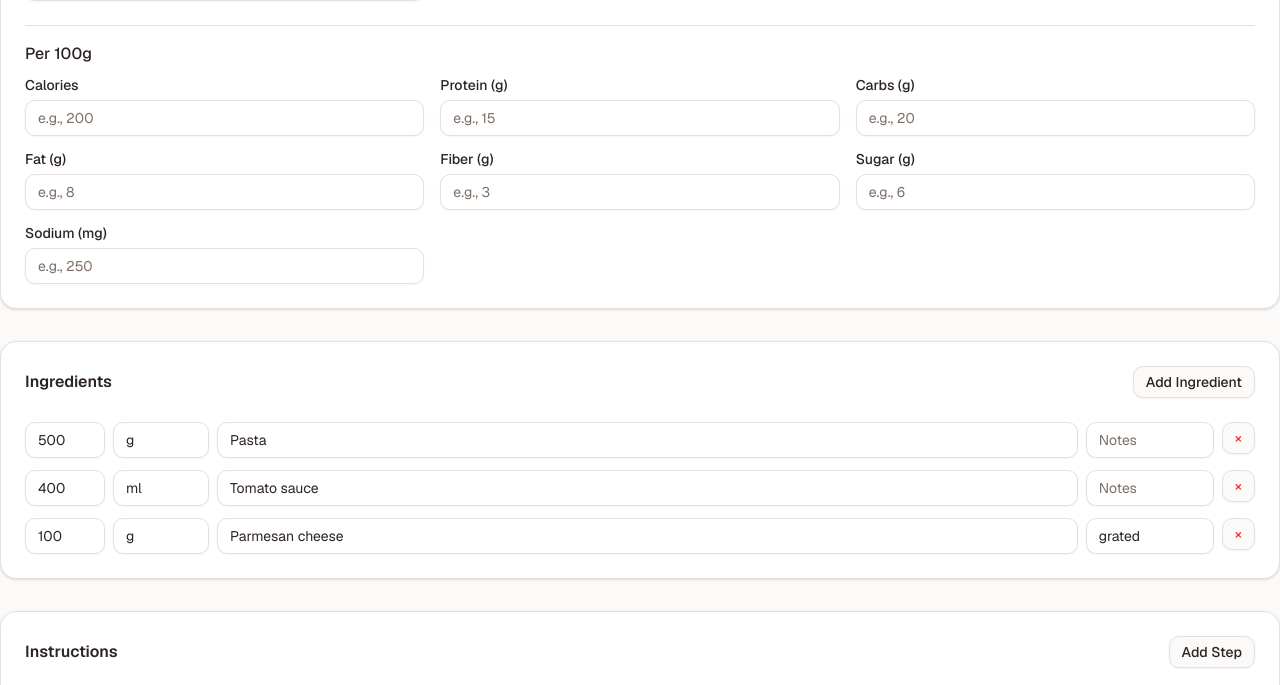
Test: RecipeForm › adds new ingredient row when add button clicked
(page scrolled)
Click the button "Add Ingredient".
click(1194, 382)  # box [1133, 366, 1255, 398]
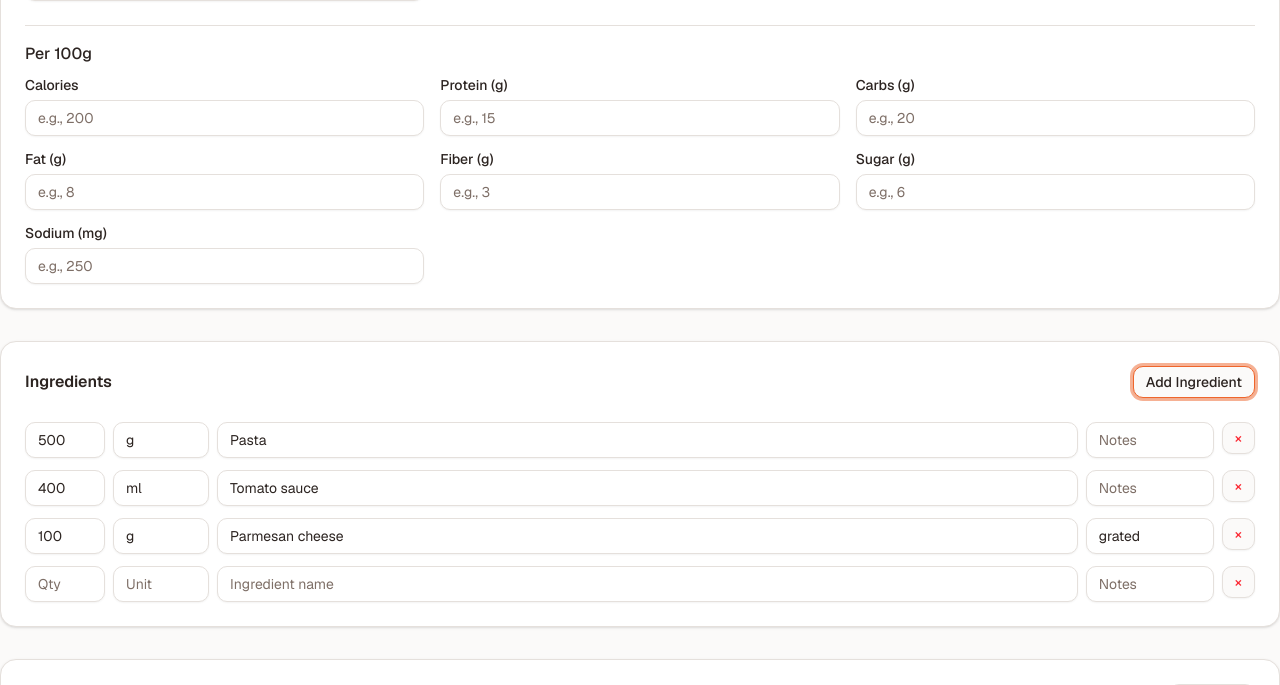
Now the number of fields with placeholder "Ingredient name" is 4, box [217, 422, 1078, 458]; [217, 470, 1078, 506]; [217, 518, 1078, 554]; [217, 566, 1078, 602]
